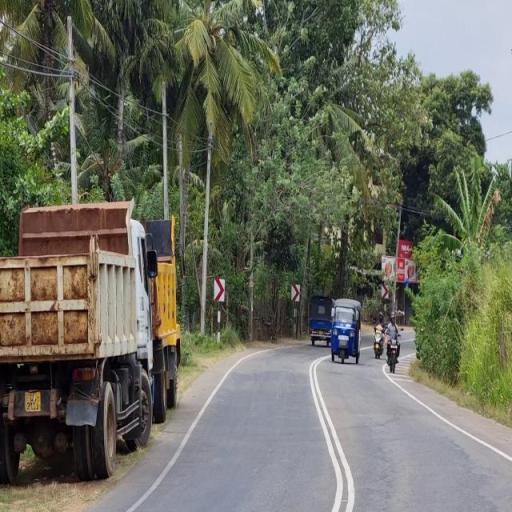double_white_line: (310, 354, 354, 510)
